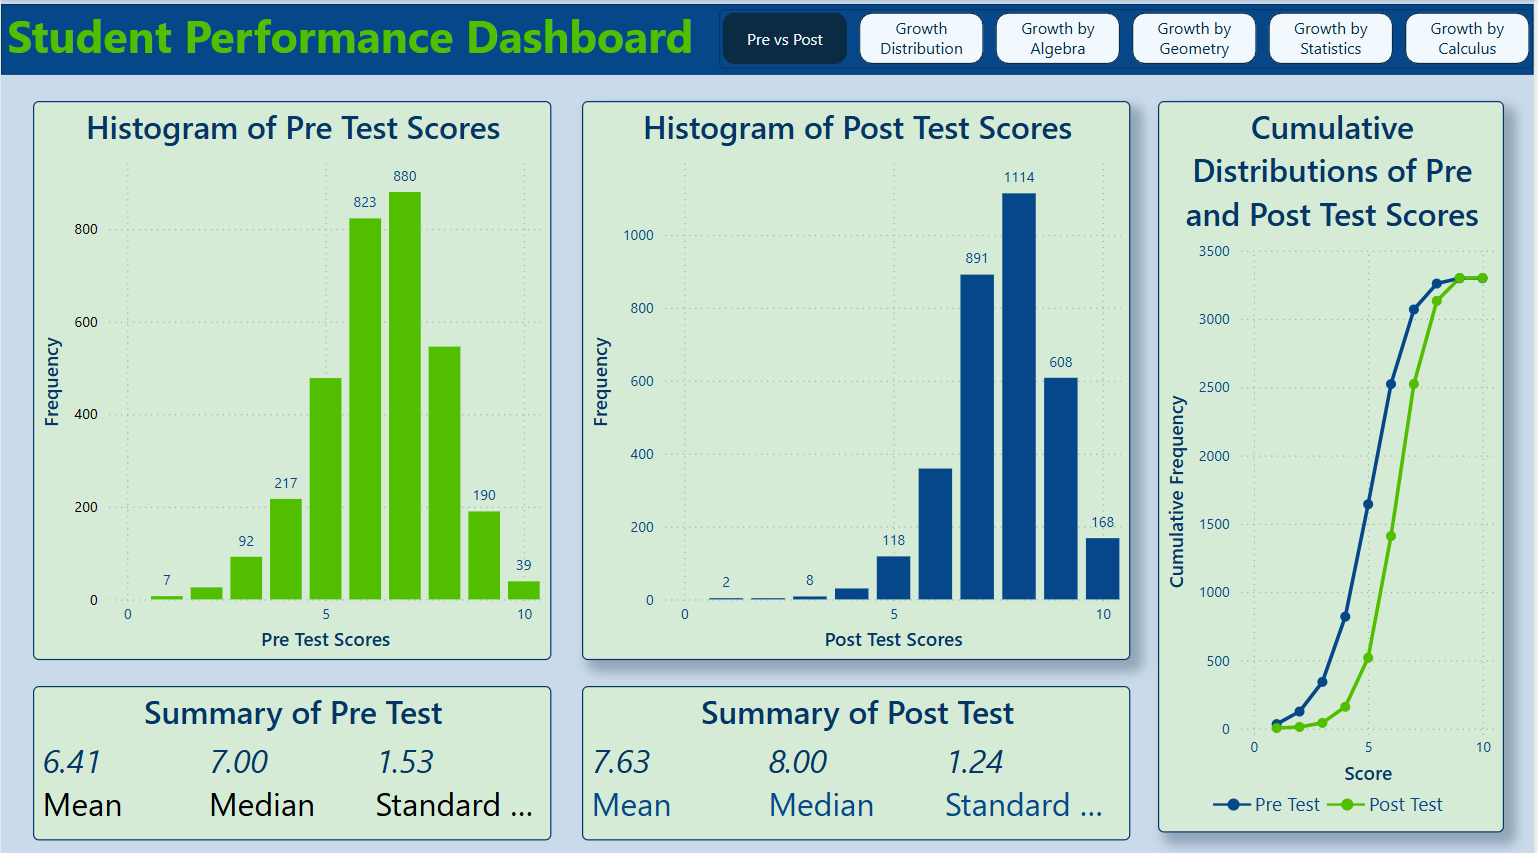

Layout of this report page (visuals, bound fields, positions):
{"tool":"powerbi","page":{"name":"Pre vs Post ","canvas":[1280,720],"ordinal":0},"visuals":[{"type":"clusteredColumnChart","title":"Histogram of Pre Test Scores","fields":{"Y":["Sum(Combined_Scores.Pre_test_Frequency)"],"Category":["Combined_Scores.Score"]},"box":[26.6,85.1,432.7,467.3],"z":0},{"type":"multiRowCard","title":"Summary of Pre Test","fields":{"Values":["Combined_Scores.Mean_Pre","Combined_Scores.Median_Pre","Combined_Scores.StandardDeviation_Pre"]},"box":[26.6,573.7,432.7,128.6],"z":2000},{"type":"shape","box":[0,4.2,1280,59.2],"z":6000},{"type":"clusteredColumnChart","title":"Histogram of Post Test Scores","fields":{"Category":["Combined_Scores.Score"],"Y":["Sum(Combined_Scores.Post_test_Frequency)"]},"box":[485,85.1,458.4,467.3],"z":7000},{"type":"multiRowCard","title":"Summary of Post Test","fields":{"Values":["Combined_Scores.Mean_Post","Combined_Scores.Median_Post","Combined_Scores.StandardDeviation_Post"]},"box":[485,573.7,458.4,128.6],"z":8000},{"type":"lineChart","title":"Cumulative Distributions of Pre and Post Test Scores","fields":{"Y":["Sum(Combined_Scores.Cumulative_Pre)","Sum(Combined_Scores.Cumulative_Post)"],"Category":["Combined_Scores.Score"]},"box":[966.5,85.1,289.1,610.9],"z":9000},{"type":"textbox","box":[0,0,607.6,63.9],"z":10000},{"type":"pageNavigator","box":[599.6,8,680.4,49.9],"z":11000}]}

Visuals, with their boxes in screenshot pixels (x1, y1, x2, y2), scaled from the page's 1280x720 canvas onto the 1538x853 screenshot:
"Histogram of Pre Test Scores" clusteredColumnChart: locate(32, 101, 552, 654)
"Summary of Pre Test" multiRowCard: locate(32, 680, 552, 832)
shape: locate(0, 5, 1537, 75)
"Histogram of Post Test Scores" clusteredColumnChart: locate(583, 101, 1134, 654)
"Summary of Post Test" multiRowCard: locate(583, 680, 1134, 832)
"Cumulative Distributions of Pre and Post Test Scores" lineChart: locate(1161, 101, 1509, 825)
textbox: locate(0, 0, 730, 76)
pageNavigator: locate(720, 9, 1537, 69)
